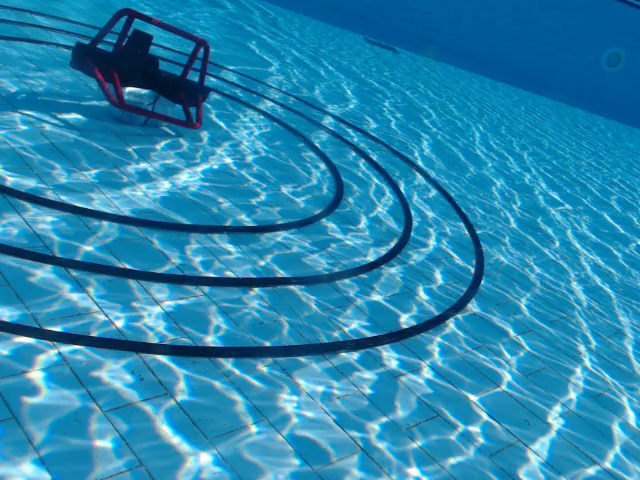submarine: (70, 7, 210, 131)
